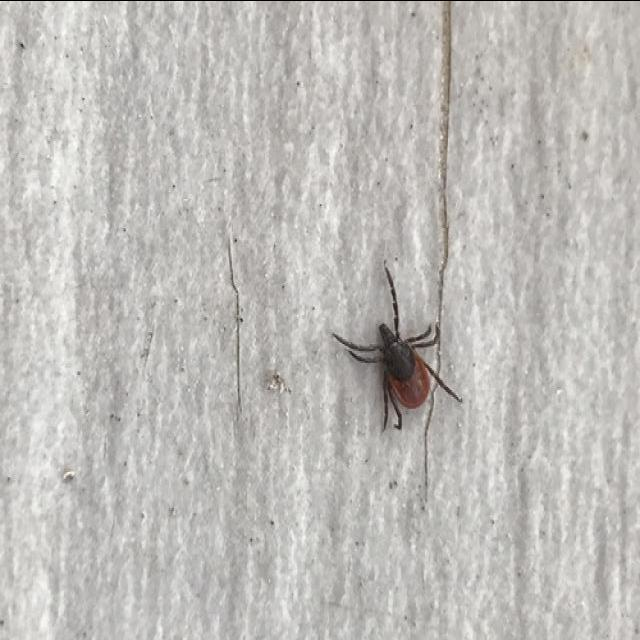Ixodes Ricinus-F: (332, 261, 460, 430)
